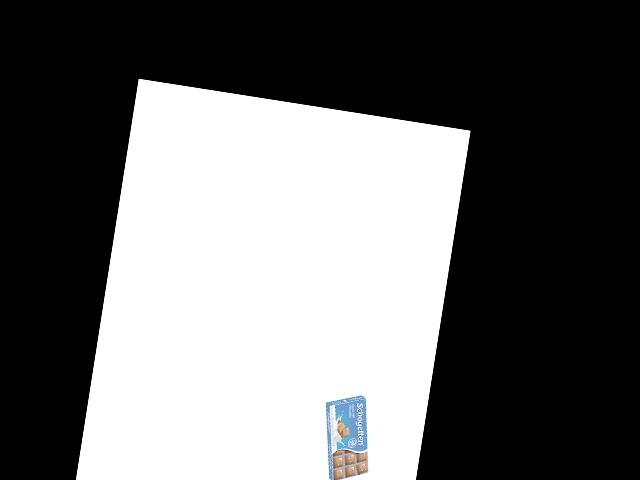chocolate: (321, 389, 380, 480)
